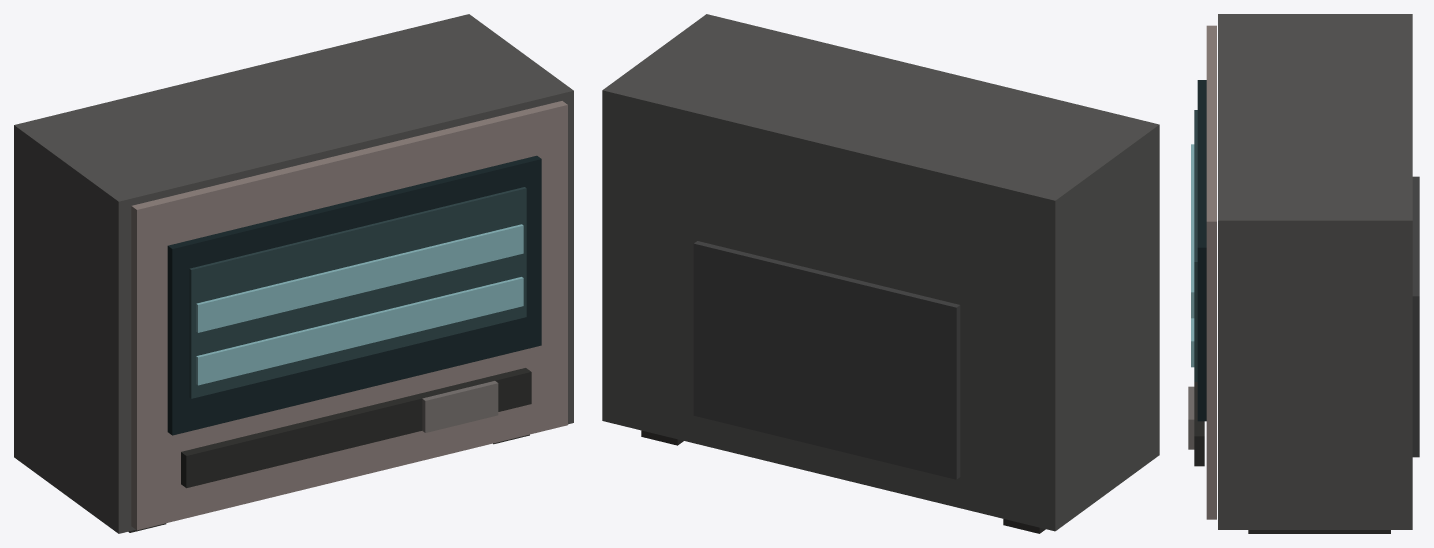
File: CMU3DDigitalDeskClock.glb
3 views of the same model, side by side, from view 1: azimuth 30°, elevation 25°; view 2: azimuth 150°, elevation 25°; view 3: azimuth 270°, elevation 25° (orthographic). The views are drawn at different scales.
Visible parts, largest first — view 1: clock casing, front bezel, dark display recess, display dark glass, cyan LCD band (×2), button strip recess, clock rectangular button; view 2: clock casing, rear battery hatch; view 3: clock casing, front bezel, dark display recess, rear battery hatch, display dark glass, cyan LCD band, button strip recess, clock foot, clock rectangular button.
Boxes of the visible parts, x1,y1,x2,y2 form: clock casing: (14,14,573,533); front bezel: (131,101,567,530); dark display recess: (167,155,541,435); display dark glass: (189,187,526,398); cyan LCD band (×2): (196,224,523,385); button strip recess: (181,368,531,488); clock rectangular button: (422,381,498,432); clock casing: (602,14,1159,531); rear battery hatch: (693,241,960,479); clock casing: (1218,14,1412,529); front bezel: (1206,25,1216,519); dark display recess: (1197,80,1206,421); rear battery hatch: (1412,176,1419,457); display dark glass: (1194,110,1197,381); cyan LCD band: (1191,144,1194,318); button strip recess: (1194,382,1204,466); clock foot: (1248,530,1390,533); clock rectangular button: (1188,386,1194,449).
Size of the model in its own units: 0.562 by 0.413 by 0.266.
